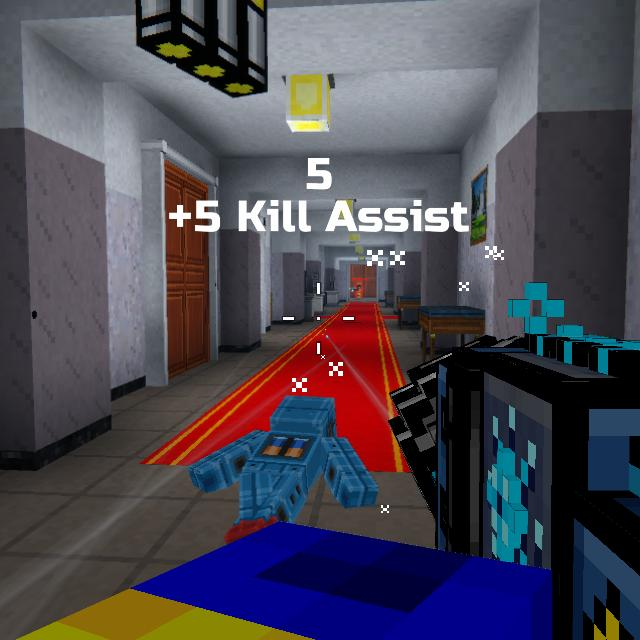Enemy: (354, 283, 361, 298)
